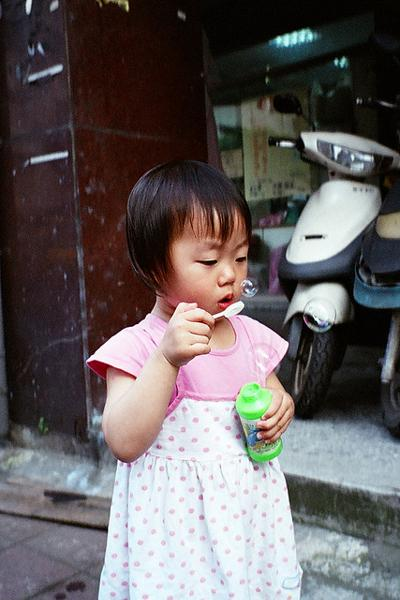person: (87, 159, 304, 600)
